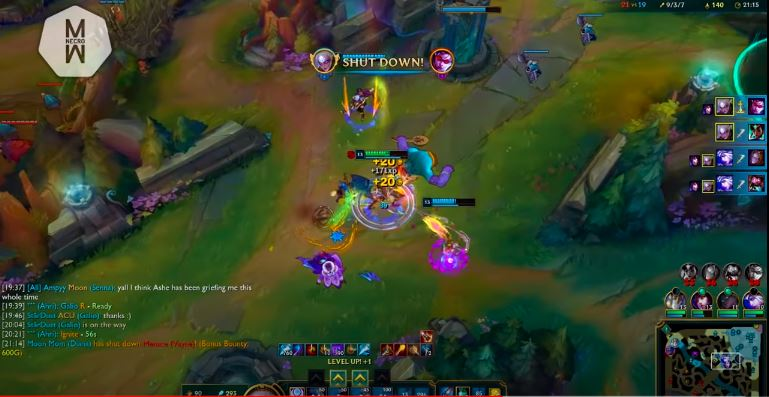bar: (325, 50, 390, 68), (354, 147, 412, 162), (422, 195, 478, 208)
